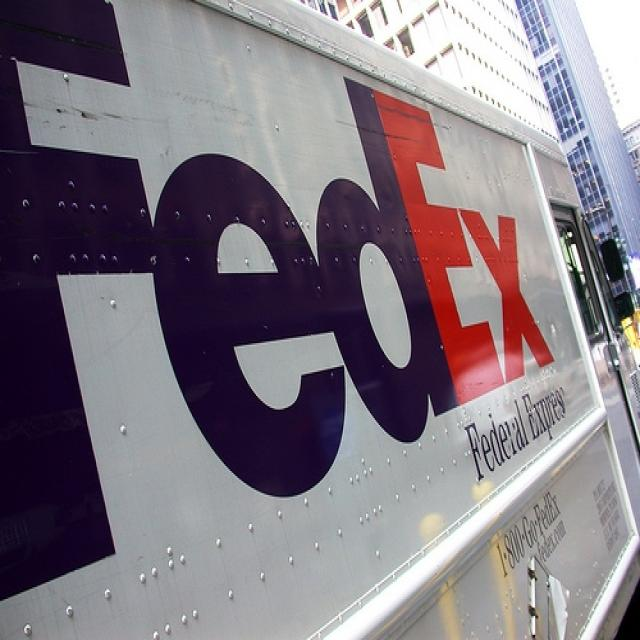fedex: (2, 3, 567, 639)
